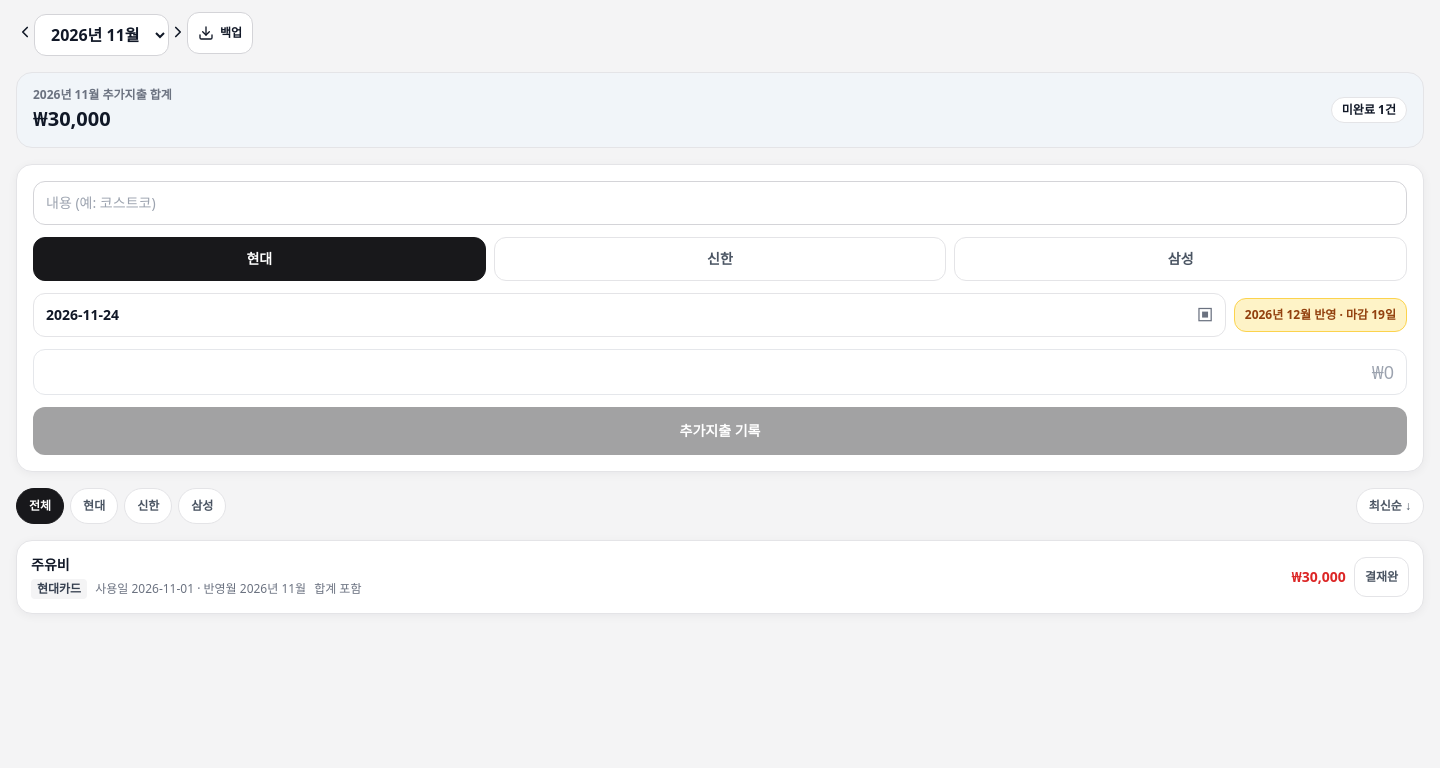
Test: ExtraSpendingPage › supports one-tap card chips without quick amount buttons and places delete safely inside row editor
The width and height of the screenshot is (1440, 768).
Click the 1st button "신한".
click(720, 259)  # box x1=494 y1=237 x2=946 y2=281
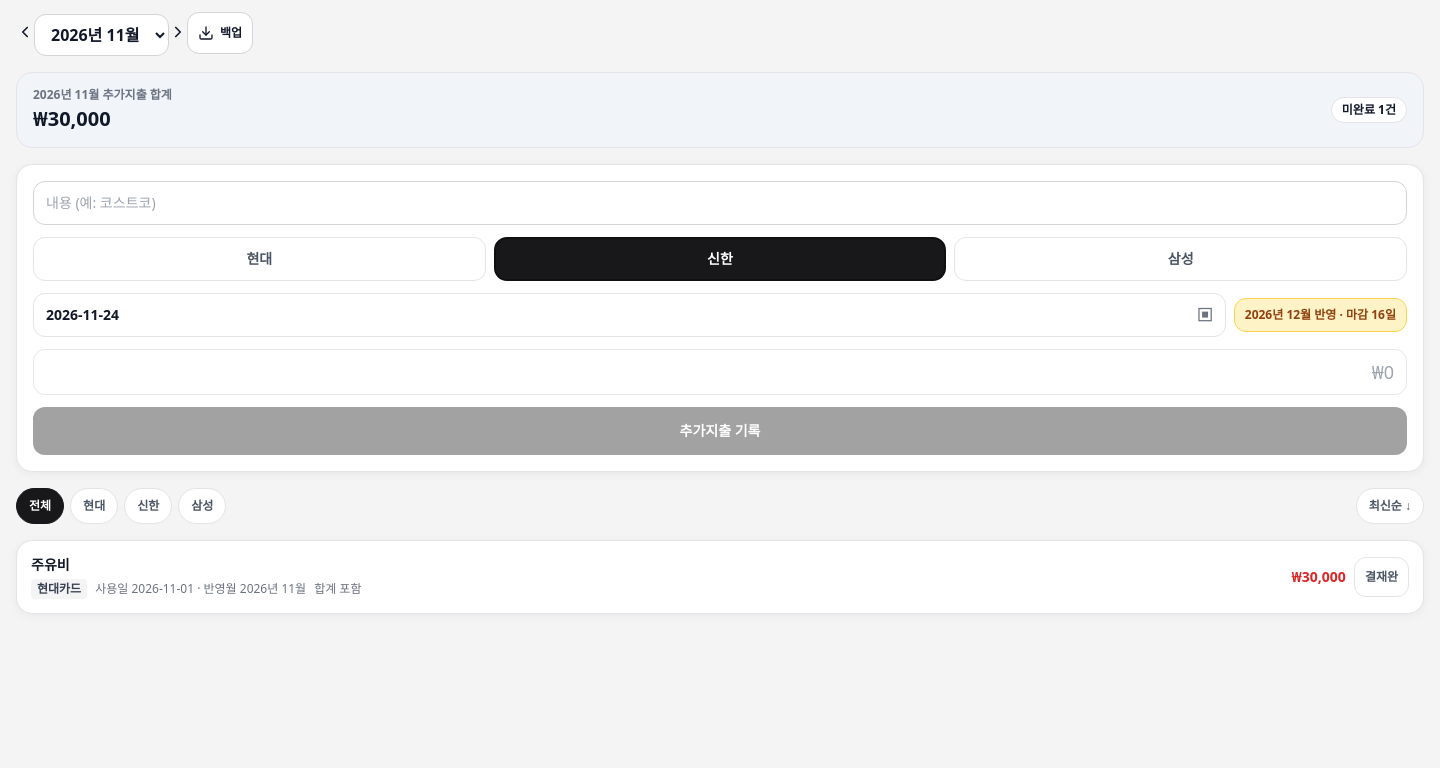
Expected: the button "삭제" is not shown
Result: the 1st button "신한" is pressed at x1=494 y1=237 x2=946 y2=281
Click the button with aria-label "주유비 수정".
click(50, 564)  # box x1=31 y1=553 x2=1282 y2=601
(page scrolled)
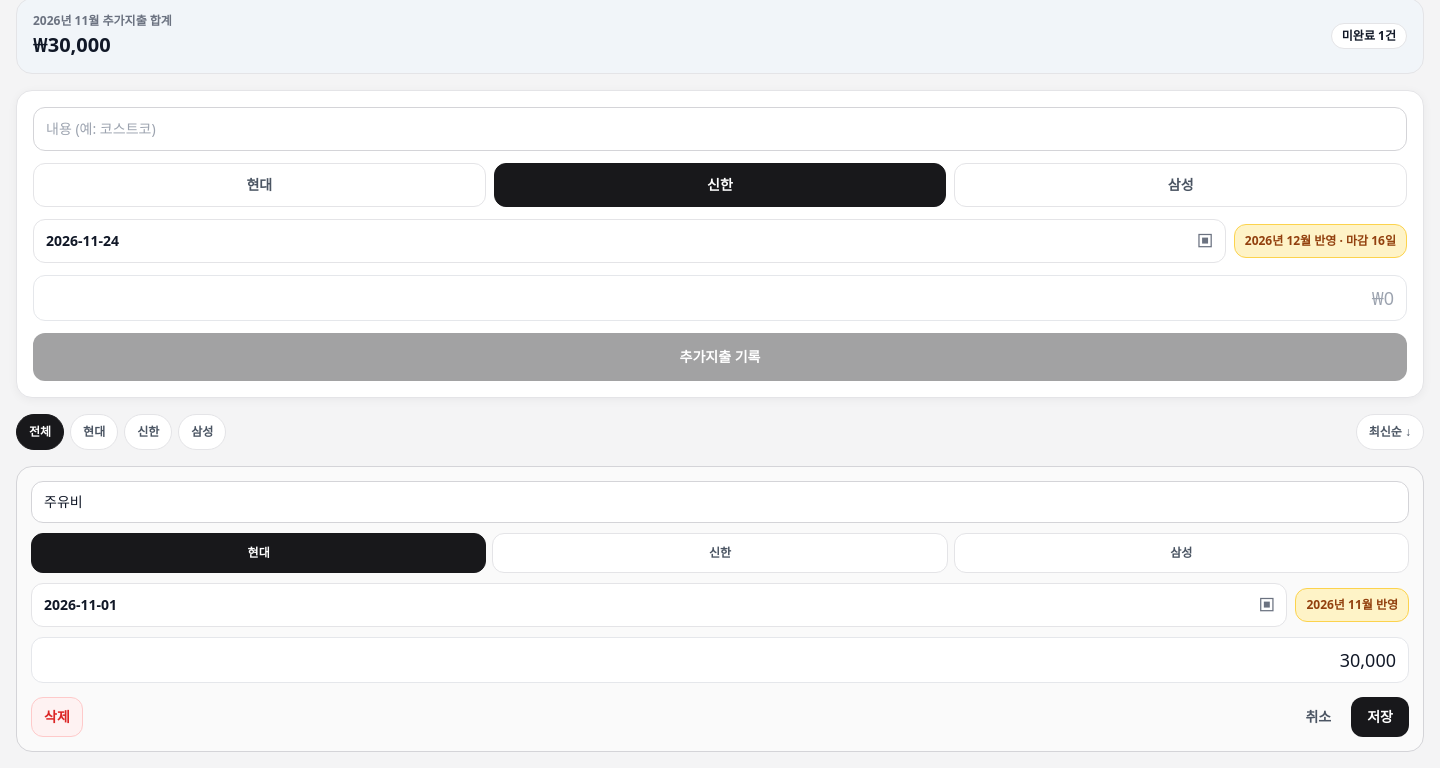
Click the button "삭제".
click(57, 717)  # box x1=31 y1=697 x2=83 y2=737
(page scrolled)
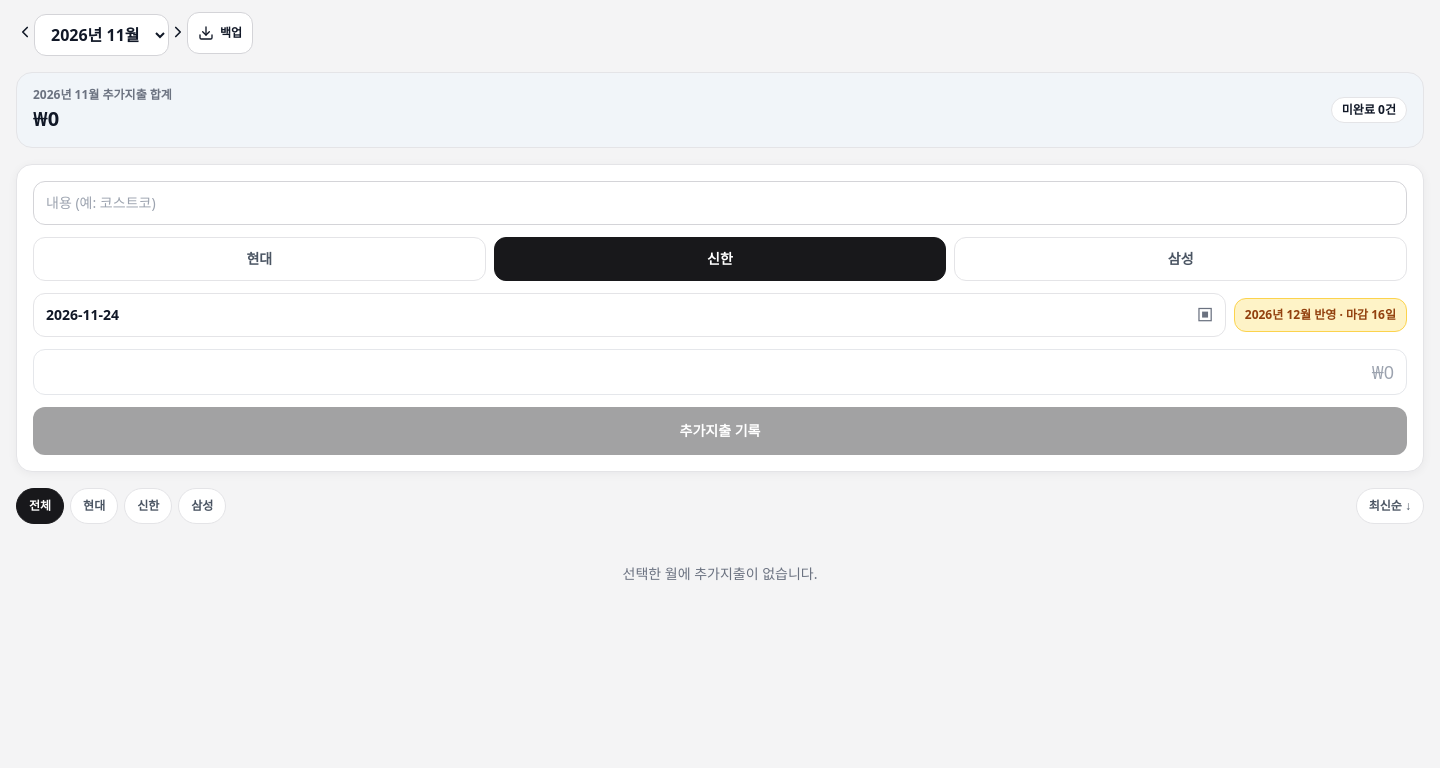
Result: the text "선택한 월에 추가지출이 없습니다." is shown at x1=622 y1=564 x2=818 y2=583
